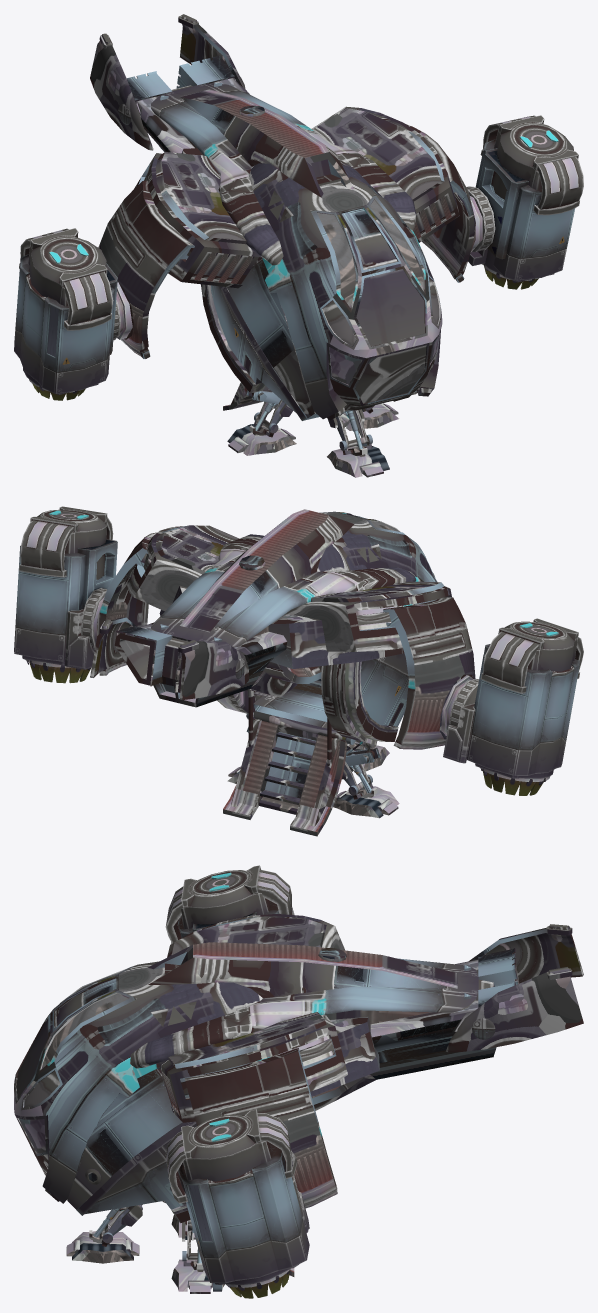
The model's file is DropshipCollider.fbx.
The picture shows the model from 3 angles, top to bottom: view 1: azimuth 30°, elevation 25°; view 2: azimuth 150°, elevation 25°; view 3: azimuth 270°, elevation 25°; orthographic projection. The views are drawn at different scales.
Visible parts, largest first — view 1: Dropship_LOD03; view 2: Dropship_LOD03; view 3: Dropship_LOD03.
Boxes of the visible parts, <box> form: Dropship_LOD03: <box>14,14,583,477</box>; Dropship_LOD03: <box>14,506,583,836</box>; Dropship_LOD03: <box>14,865,583,1298</box>.
Size of the model in its own units: 1530 by 771 by 1304.
